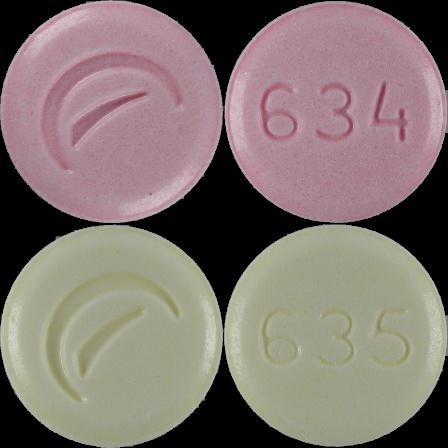60429-401: (0, 0, 224, 224)
